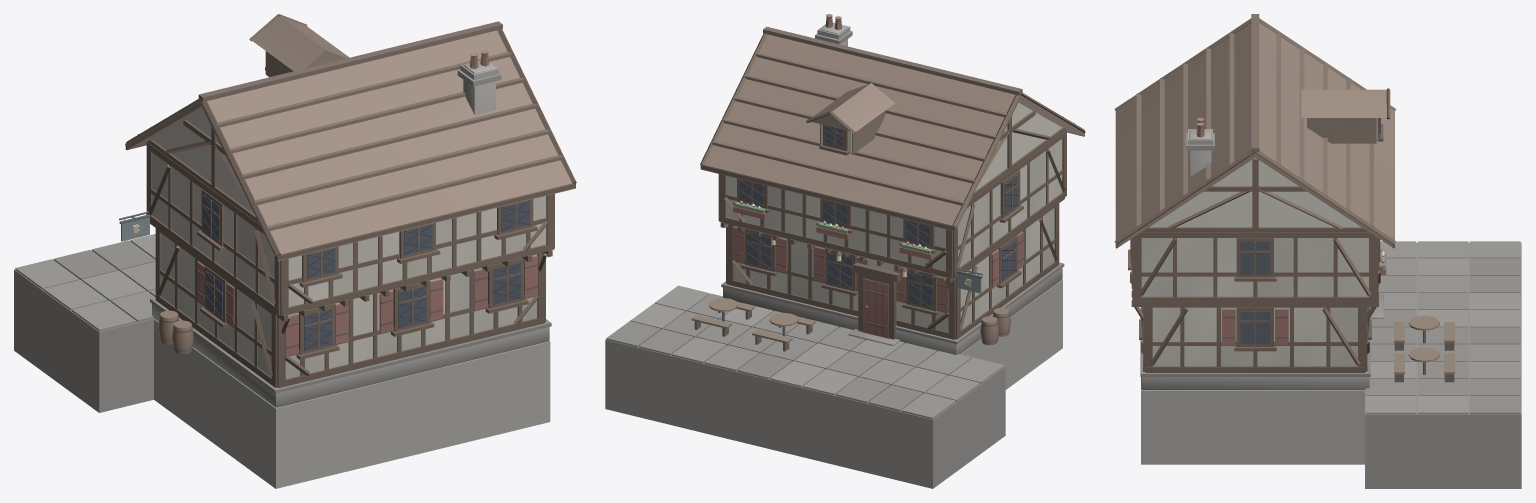
The model's file is tavern_3.gltf.
3 views of the same model, side by side, from view 1: azimuth 30°, elevation 25°; view 2: azimuth 150°, elevation 25°; view 3: azimuth 270°, elevation 25° (orthographic). The views are drawn at different scales.
Visible parts, largest first — view 1: Body; view 2: Body; view 3: Body.
Part boxes in pixels (bbox=[...]): Body: bbox=[14, 14, 576, 488]; Body: bbox=[605, 14, 1085, 488]; Body: bbox=[1114, 14, 1521, 488].
Size of the model in its own units: 13 by 11.47 by 13.
